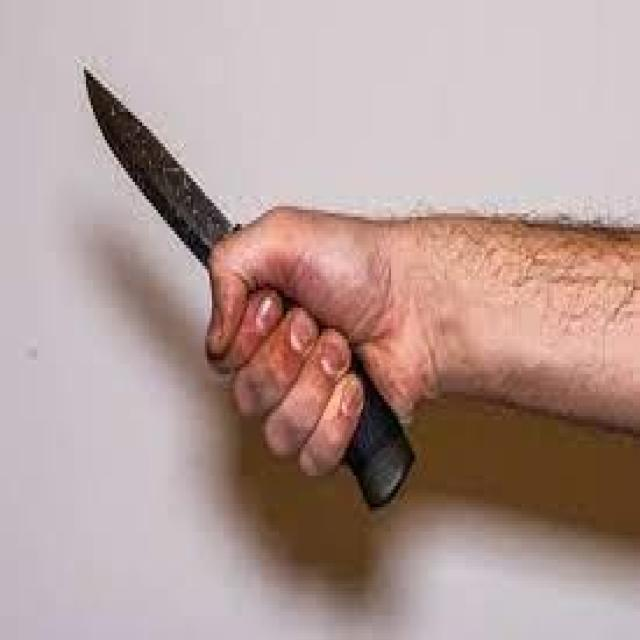senjata_tajam: (81, 64, 239, 274)
